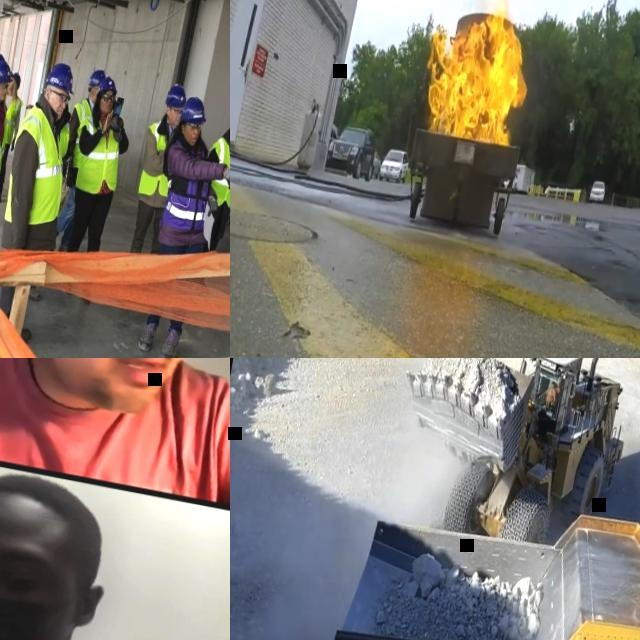Hardhat: (45, 59, 79, 93), (179, 92, 209, 124), (164, 80, 188, 107), (97, 71, 119, 96), (0, 56, 15, 83), (88, 66, 107, 87), (8, 69, 22, 88), (0, 50, 5, 62)
NO-Hardhat: (0, 458, 112, 553), (548, 377, 556, 385)
NO-Mask: (35, 358, 181, 423), (0, 575, 81, 640), (51, 101, 64, 118), (186, 131, 198, 145), (101, 101, 113, 112), (169, 115, 179, 124), (0, 90, 6, 99), (8, 81, 12, 87)
NO-Safety Vest: (0, 358, 230, 499), (545, 387, 555, 403)
Person: (0, 431, 230, 640), (0, 358, 230, 526), (132, 89, 230, 358), (0, 53, 88, 347), (51, 70, 139, 304), (48, 63, 107, 252), (127, 78, 189, 255), (185, 102, 230, 286), (0, 54, 26, 254), (0, 68, 27, 201), (53, 103, 75, 159), (537, 375, 559, 405), (0, 49, 5, 73)
Safety Vest: (0, 99, 76, 229), (153, 135, 219, 231), (68, 109, 128, 197), (137, 117, 182, 197), (199, 131, 230, 207), (64, 97, 96, 166), (1, 95, 23, 146), (0, 103, 13, 188)
machinery: (295, 463, 640, 640), (382, 358, 640, 557)
vehicle: (324, 120, 379, 180), (378, 146, 410, 184), (588, 178, 608, 202), (501, 171, 519, 192), (328, 122, 339, 148), (371, 152, 382, 178)
